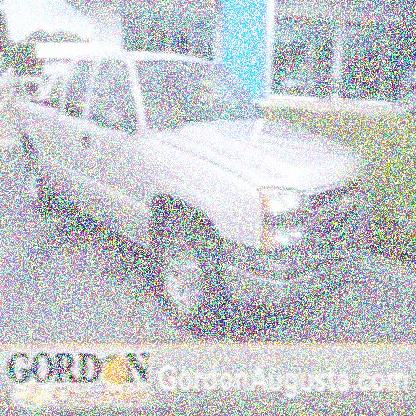Vehicle: (13, 49, 379, 339)
